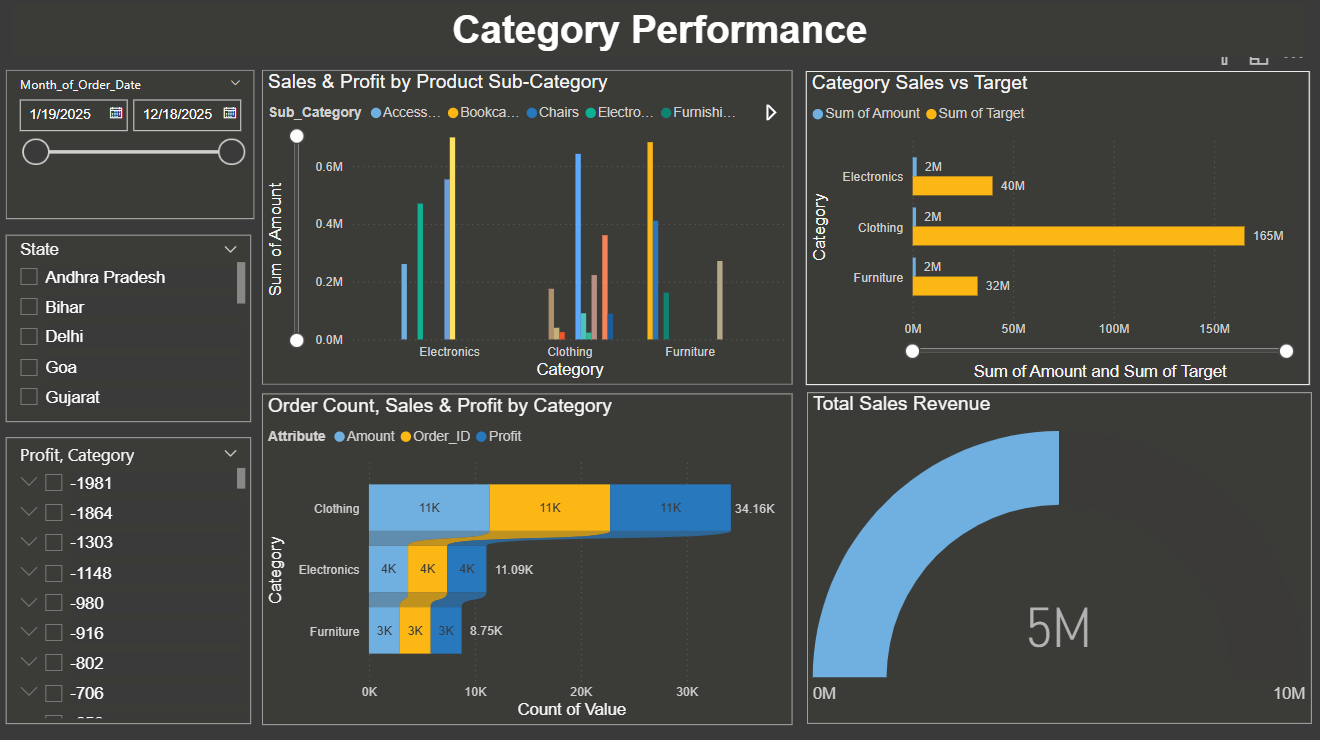

The dashboard page shown, as its layout file describes it:
{"tool":"powerbi","page":{"name":"Category Performance","canvas":[1280,720],"ordinal":3},"visuals":[{"type":"clusteredColumnChart","title":"Sales & Profit by Product Sub-Category","fields":{"Category":["Query1.Category"],"Y":["Sum(Query1.Amount)"],"Series":["Query1.Sub_Category"]},"box":[256,71,512,304],"z":0},{"type":"barChart","title":"Order Count, Sales & Profit by Category","fields":{"Y":["CountNonNull(Query1 (2).Value)"],"Series":["Query1 (2).Attribute"],"Category":["Query1 (2).Category"]},"box":[256,384,512,320],"z":1000},{"type":"clusteredBarChart","title":"Category Sales vs Target","fields":{"Category":["Query1.Category"],"Y":["Sum(Query1.Amount)","Sum(Query1.Target)"]},"box":[780,72,486.7,303.3],"z":2000},{"type":"textbox","box":[16,6,1248,53],"z":3000},{"type":"slicer","fields":{"Values":["Query1.Month_of_Order_Date"]},"box":[8,71,240,144],"z":4000},{"type":"slicer","fields":{"Values":["Query1.State"]},"box":[8.6,230,237,181],"z":5000},{"type":"slicer","fields":{"Values":["Query1.Profit","Query1.Category"]},"box":[8,426,237,277],"z":6000},{"type":"gauge","title":"Total Sales Revenue","fields":{"Y":["Sum(Query1.Amount)"]},"box":[782,383,487,320],"z":7000}]}

Visuals, with their boxes in screenshot pixels (x1, y1, x2, y2), scaled from the page's 1280x720 canvas onto the 1320x740 screenshot:
"Sales & Profit by Product Sub-Category" clusteredColumnChart: 264/73/792/385
"Order Count, Sales & Profit by Category" barChart: 264/395/792/724
"Category Sales vs Target" clusteredBarChart: 804/74/1306/386
textbox: 16/6/1304/61
slicer - Query1.Month_of_Order_Date: 8/73/256/221
slicer - Query1.State: 9/236/253/422
slicer - Query1.Profit x Query1.Category: 8/438/253/723
"Total Sales Revenue" gauge: 806/394/1309/723
